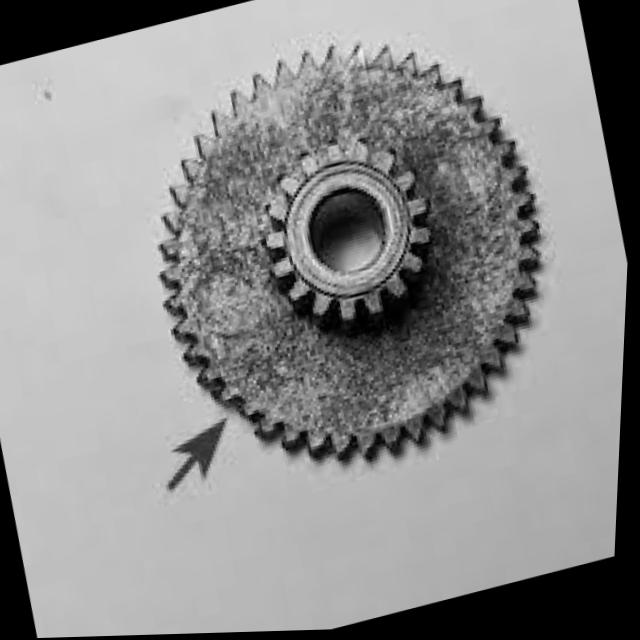Fault-Exist: (28, 0, 640, 588), (120, 213, 314, 558)
